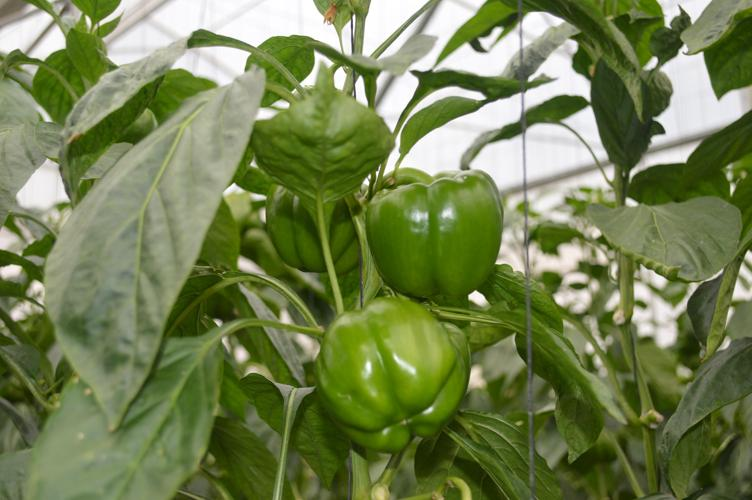BellPepper: (317, 306, 468, 451), (352, 164, 500, 298), (242, 167, 373, 283)
